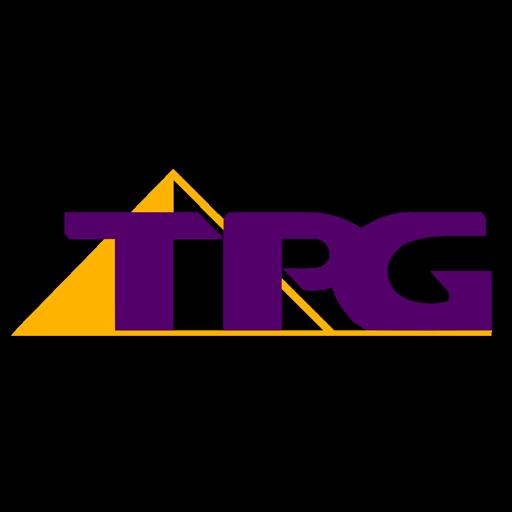TPG Telecom: (0, 157, 512, 355)
